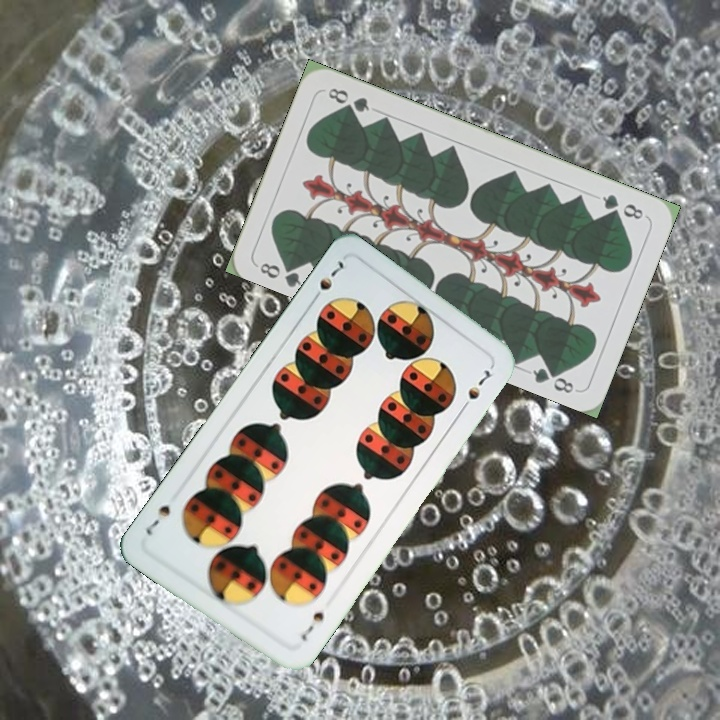G8: (255, 256, 304, 290), (597, 190, 646, 222)
S7: (306, 256, 347, 306), (297, 607, 327, 644)
